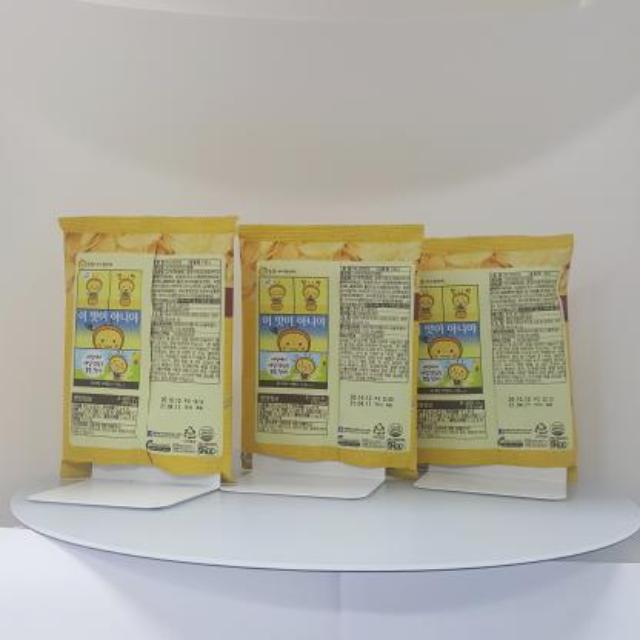snack_bag: (49, 205, 601, 505)
